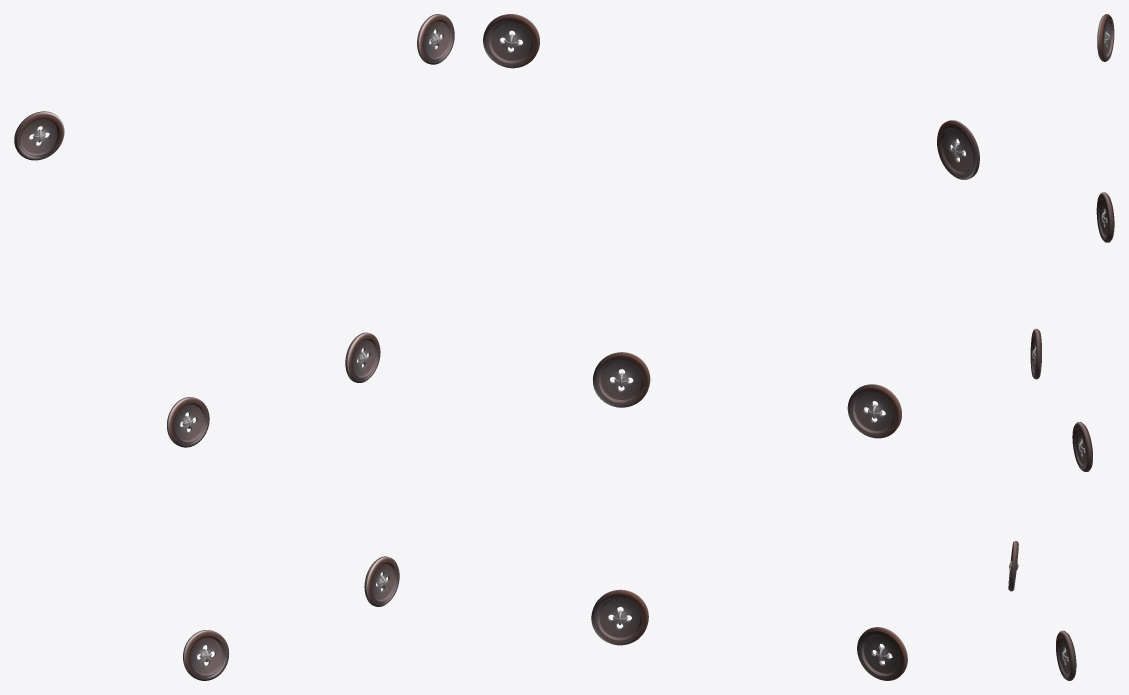
The model's file is double_breasted_buttons.glb.
3 renders of one model, left to right at view 1: azimuth 30°, elevation 25°; view 2: azimuth 150°, elevation 25°; view 3: azimuth 270°, elevation 25°, orthographic. The views are drawn at different scales.
Parts seen in each view (by area): view 1: double_breasted_buttons; view 2: double_breasted_buttons; view 3: double_breasted_buttons.
Boxes of the visible parts, x1,y1,x2,y2 form: double_breasted_buttons: (14,14,454,680); double_breasted_buttons: (483,14,979,680); double_breasted_buttons: (1008,14,1114,680).
Bounding box in the file's own units: 0.028 × 0.0341 × 0.0063.
Materials: 1 (1 with a texture image).
